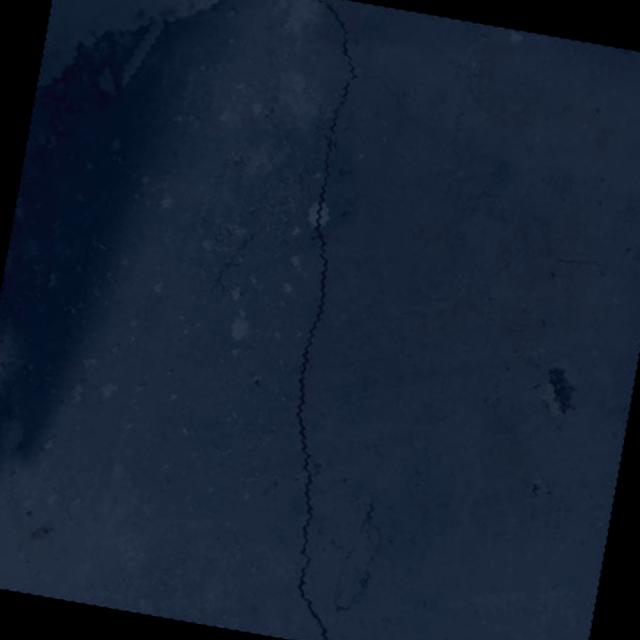crack: (201, 0, 466, 640), (449, 132, 640, 311)
